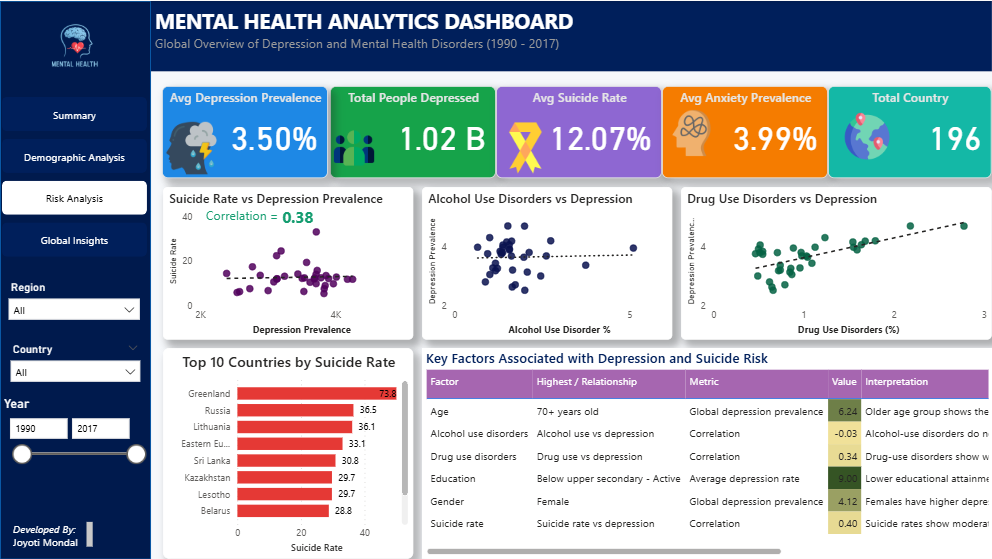

What the dashboard file says about the page in this screenshot:
{"tool":"powerbi","page":{"name":"Risk Analysis","canvas":[1280,720],"ordinal":2},"visuals":[{"type":"shape","box":[0,0,194.9,720.6],"z":0},{"type":"cardVisual","title":"Avg Depression Prevalence","fields":{"Data":["_Key Measures.Avg Depression Prevalence %"]},"box":[209.5,109.5,214.3,119],"z":0,"group":"g1"},{"type":"shape","box":[194.9,0,1085.1,90.7],"z":1000},{"type":"image","box":[209.5,149.2,76.2,79.4],"z":1000,"group":"g1"},{"type":"textbox","box":[195.2,3.2,558.7,84.1],"z":2000},{"type":"image","box":[11.8,3.4,171.3,120.9],"z":3000},{"type":"slicer","fields":{"Values":["DimCountry.Country"]},"box":[4.3,436.5,187.1,73.7],"z":4000},{"type":"slicer","title":"Year","fields":{"Values":["DimYear.Year"]},"box":[0,510.2,197,114.8],"z":5000},{"type":"cardVisual","title":"Total People Depressed","fields":{"Data":["_Key Measures.People Suffering KPI"]},"box":[425.4,109.5,214.3,119],"z":6000},{"type":"cardVisual","title":"Avg Suicide Rate","fields":{"Data":["_Key Measures.Avg Suicide Rate"]},"box":[639.7,109.5,214.3,119],"z":7000},{"type":"cardVisual","title":"Avg Anxiety Prevalence","fields":{"Data":["_Key Measures.Avg Anxiety Prevalence %"]},"box":[854,109.5,214.3,119],"z":8000},{"type":"cardVisual","title":"Total Country","fields":{"Data":["_Key Measures.Total Country"]},"box":[1068.3,109.5,211.1,119],"z":9000},{"type":"group","id":"g1","title":"Group 1","box":[209.5,109.5,214.3,119],"z":10000},{"type":"image","box":[425.4,149.2,61.9,79.4],"z":11000},{"type":"image","box":[639.7,149.2,76.2,79.4],"z":12000},{"type":"image","box":[854,130.2,76.2,79.4],"z":13000},{"type":"image","box":[1084.1,139.7,69.8,69.8],"z":14000},{"type":"pageNavigator","box":[3.2,123.8,187.3,209.5],"z":15000},{"type":"textbox","box":[11.1,666.7,112.7,42.9],"z":16000},{"type":"slicer","fields":{"Values":["DimCountry.Region"]},"box":[1.4,355.7,188.5,92.1],"z":17000},{"type":"scatterChart","title":"Suicide Rate vs Depression Prevalence","fields":{"X":["Avg(Suicide Vs Depression.Depression Rate)"],"Y":["Avg(Suicide Vs Depression.Suicide Rate)"],"Category":["DimCountry.Region"]},"box":[209.8,239.5,323.1,197],"z":18000},{"type":"scatterChart","title":"Alcohol Use Disorders vs Depression","fields":{"X":["_Key Measures.Alcohol %"],"Y":["_Key Measures.Avg Depression %"],"Category":["DimCountry.Country"]},"box":[544.3,239.5,323.1,197],"z":19000},{"type":"scatterChart","title":"Drug Use Disorders vs Depression","fields":{"Category":["DimCountry.Country"],"X":["_Key Measures.Drug %"],"Y":["_Key Measures.Avg Depression %"]},"box":[878.7,239.5,401.1,197],"z":20000},{"type":"clusteredBarChart","title":"Top 10 Countries by Suicide Rate","fields":{"Category":["DimCountry.Country"],"Y":["_Key Measures.Avg Suicide"]},"box":[209.8,447.9,323.1,272.1],"z":21000},{"type":"cardVisual","fields":{"Data":["_Key Measures.Correlation Depression Suicide"]},"box":[347.2,239.5,96.4,62.4],"z":22000},{"type":"textbox","box":[260.8,260.8,110.6,41.1],"z":23000},{"type":"tableEx","title":"Key Factors Associated with Depression and Suicide Risk","fields":{"Values":["Key Factor Summary.Factor","Key Factor Summary.Highest / Relationship","Key Factor Summary.Metric","Key Factor Summary.Value","Key Factor Summary.Interpretation","Key Factor Summary.Source Year"]},"box":[544.3,447.9,735.6,272.1],"z":24000}]}

Visuals, with their boxes in screenshot pixels (x1, y1, x2, y2), scaled from the page's 1280x720 canvas onto the 992x559 screenshot:
shape: <region>0, 0, 151, 558</region>
"Avg Depression Prevalence" cardVisual: <region>162, 85, 328, 177</region>
shape: <region>151, 0, 991, 70</region>
image: <region>162, 116, 221, 177</region>
textbox: <region>151, 2, 584, 68</region>
image: <region>9, 3, 142, 97</region>
slicer - DimCountry.Country: <region>3, 339, 148, 396</region>
"Year" slicer: <region>0, 396, 153, 485</region>
"Total People Depressed" cardVisual: <region>330, 85, 496, 177</region>
"Avg Suicide Rate" cardVisual: <region>496, 85, 662, 177</region>
"Avg Anxiety Prevalence" cardVisual: <region>662, 85, 828, 177</region>
"Total Country" cardVisual: <region>828, 85, 991, 177</region>
"Group 1" group: <region>162, 85, 328, 177</region>
image: <region>330, 116, 378, 177</region>
image: <region>496, 116, 555, 177</region>
image: <region>662, 101, 721, 163</region>
image: <region>840, 108, 894, 163</region>
pageNavigator: <region>2, 96, 148, 259</region>
textbox: <region>9, 518, 96, 551</region>
slicer - DimCountry.Region: <region>1, 276, 147, 348</region>
"Suicide Rate vs Depression Prevalence" scatterChart: <region>163, 186, 413, 339</region>
"Alcohol Use Disorders vs Depression" scatterChart: <region>422, 186, 672, 339</region>
"Drug Use Disorders vs Depression" scatterChart: <region>681, 186, 991, 339</region>
"Top 10 Countries by Suicide Rate" clusteredBarChart: <region>163, 348, 413, 558</region>
cardVisual - _Key Measures.Correlation Depression Suicide: <region>269, 186, 344, 234</region>
textbox: <region>202, 202, 288, 234</region>
"Key Factors Associated with Depression and Suicide Risk" tableEx: <region>422, 348, 991, 558</region>
